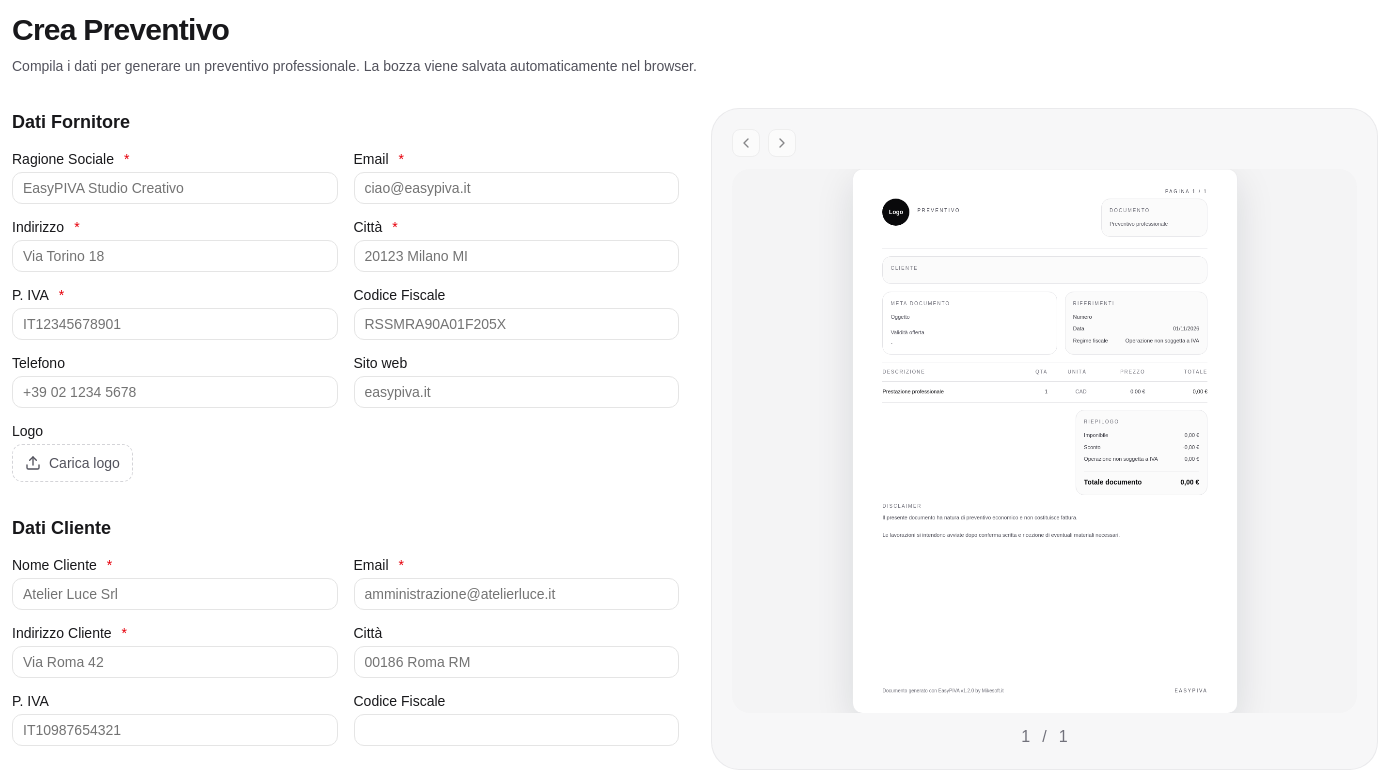
Test: QuoteBuilder safe defaults › shows a persistence warning when autosave fails
The image size is (1378, 773).
Type "Studio Test" into the field labelled "Ragione Sociale *" at (175, 188), box top-left (12, 172), bottom-right (338, 204)
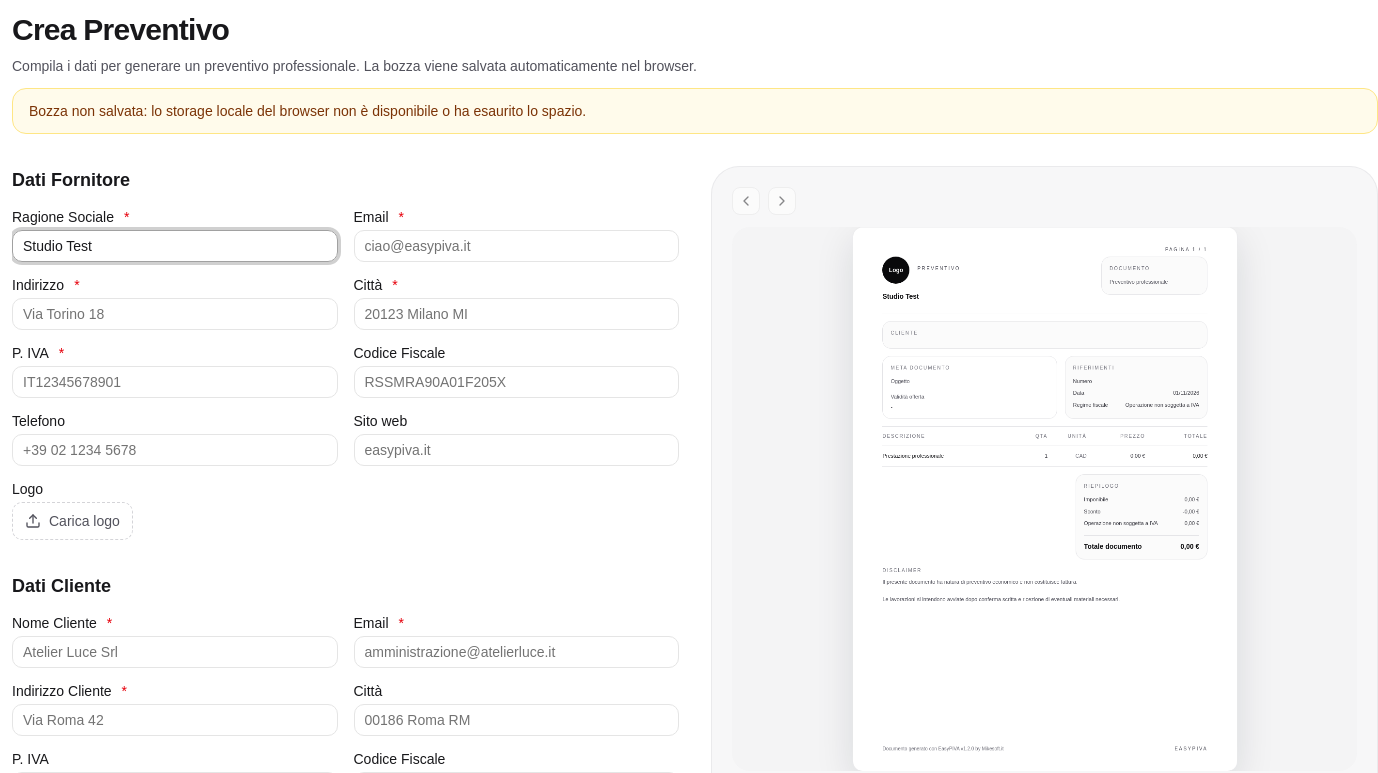
Now the text "Bozza non salvata" is shown, box top-left (29, 103), bottom-right (586, 119)
